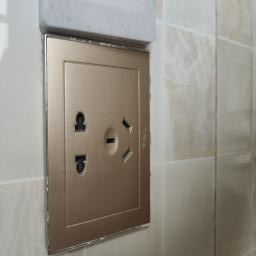outlet: (38, 37, 160, 256)
